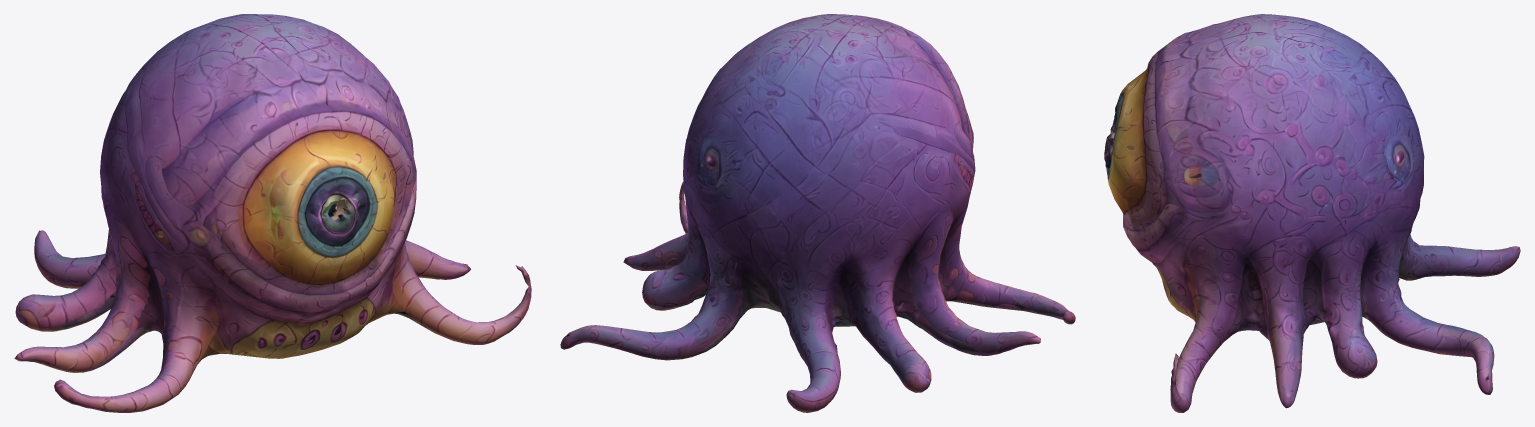
File: eyeMonster.fbx
3 renders of one model, left to right at view 1: azimuth 30°, elevation 25°; view 2: azimuth 150°, elevation 25°; view 3: azimuth 270°, elevation 25°, orthographic. The views are drawn at different scales.
Visible parts, largest first — view 1: Mesh_0; view 2: Mesh_0; view 3: Mesh_0.
Boxes of the visible parts, bbox=[...] form: Mesh_0: bbox=[14, 14, 531, 412]; Mesh_0: bbox=[560, 14, 1075, 412]; Mesh_0: bbox=[1104, 14, 1520, 412].
Bounding box in the file's own units: 120 × 81.2 × 102.
1 material, 1 textured.
